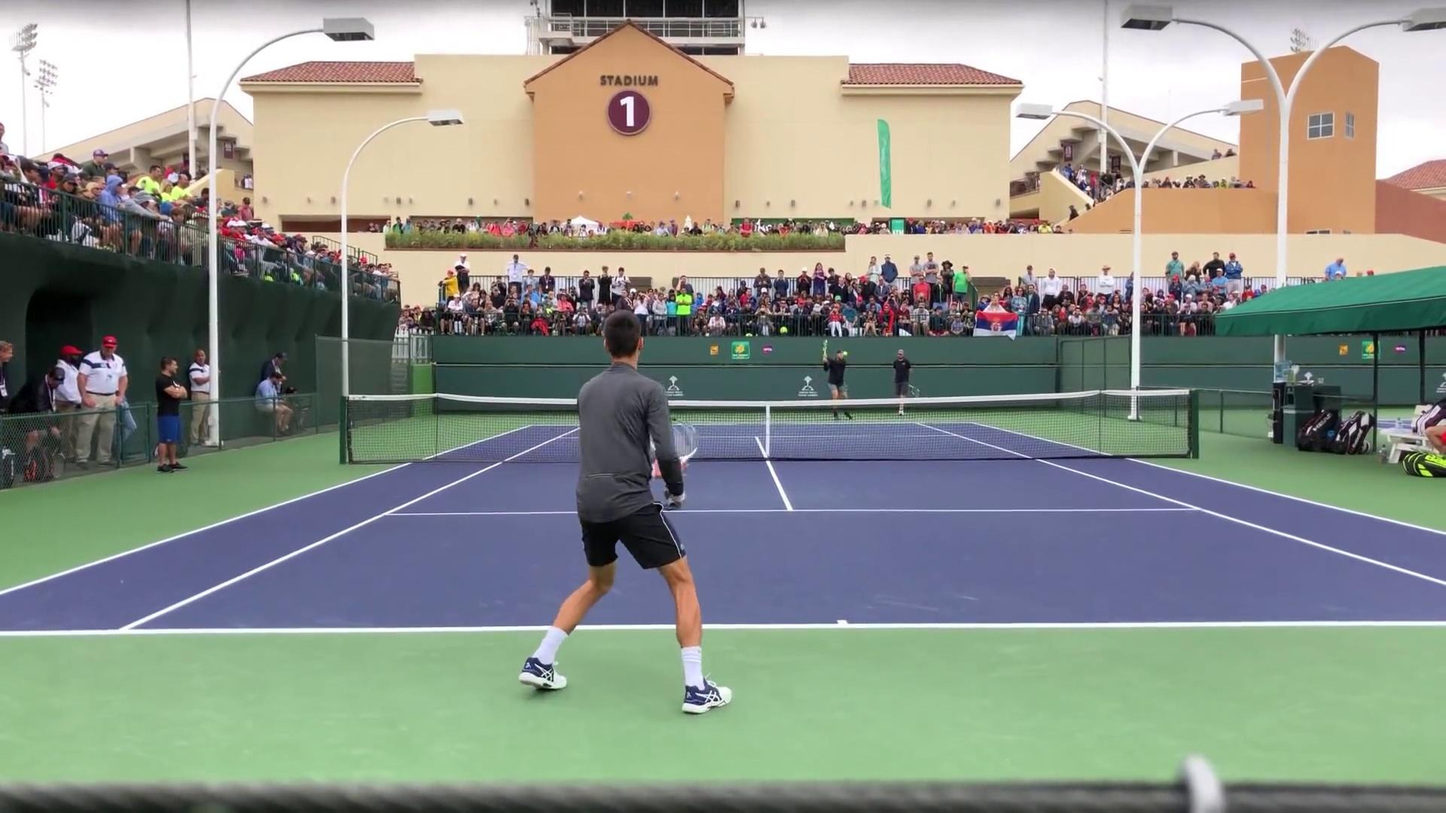ball: (842, 349, 850, 356)
